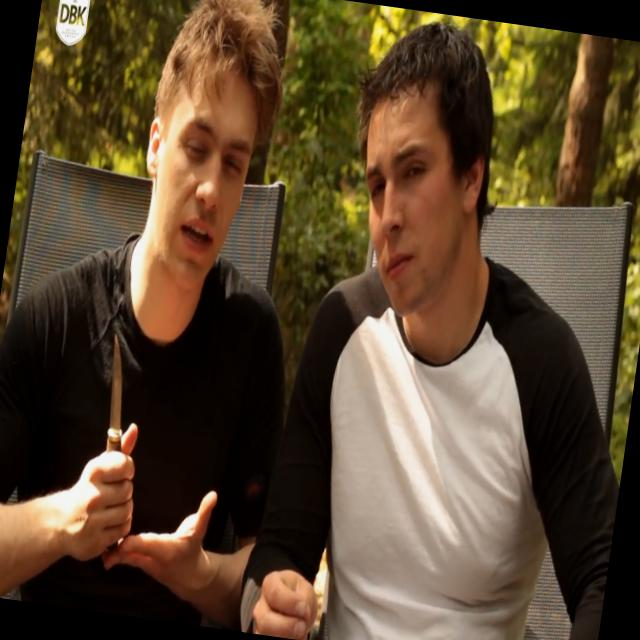knife: (69, 314, 166, 528)
